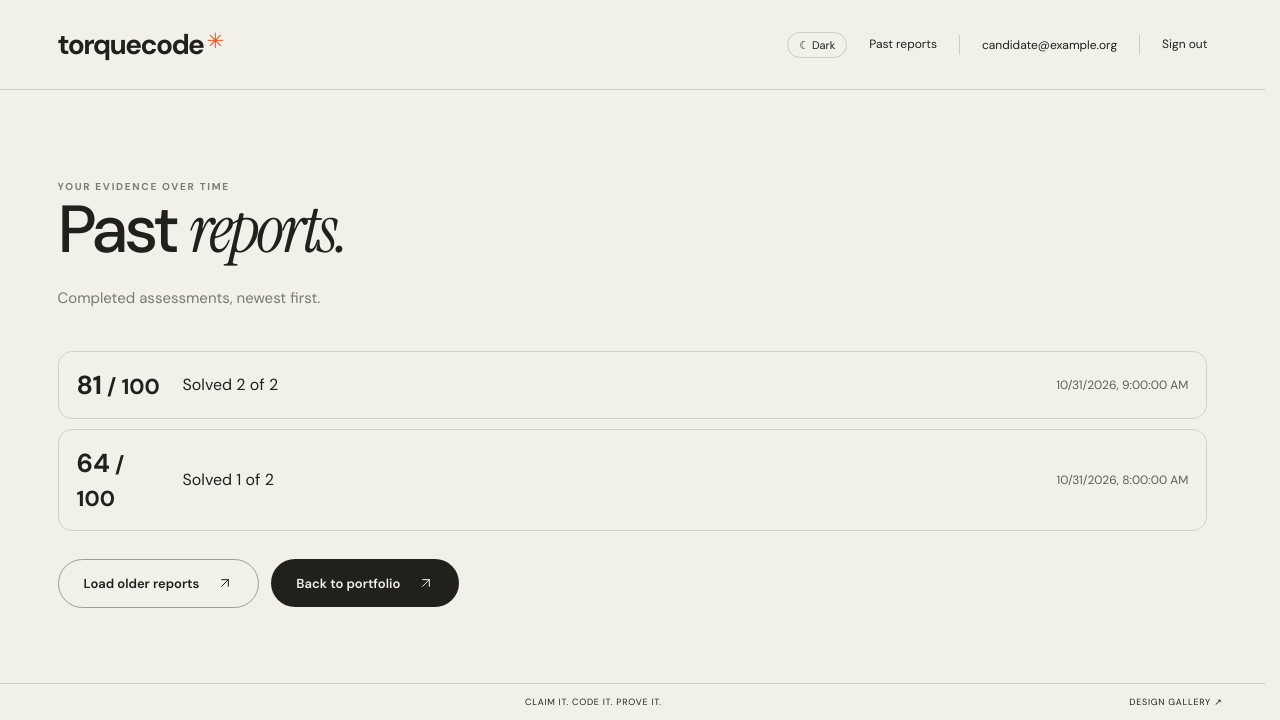
Test case: live report (G5) › pages past reports with next_cursor → ?before=
expect the text "Solved 2 of 2" is shown: met, box [183,374,278,395]
Click the button "Load older reports". click: (158, 583)
box: [58,558,259,608]
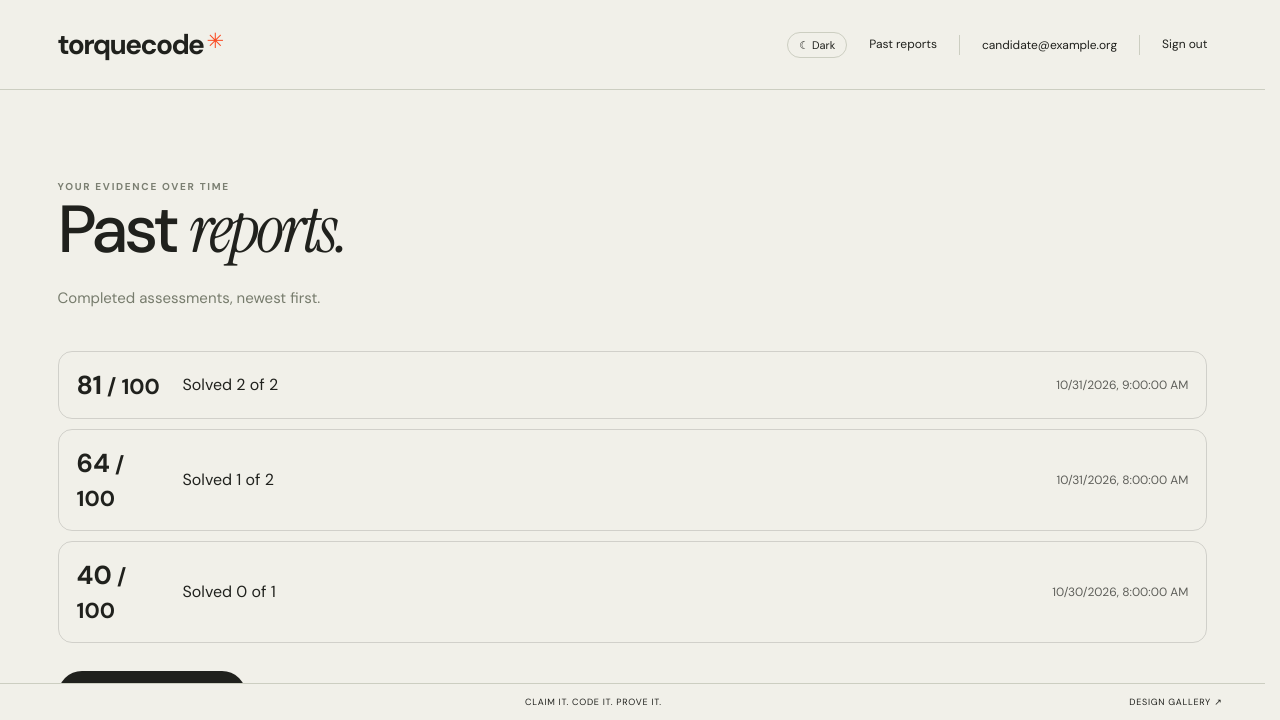
expect the text "Solved 0 of 1" is shown: met, box [183,581,276,602]
expect the button "Load older reports" is gone: met
